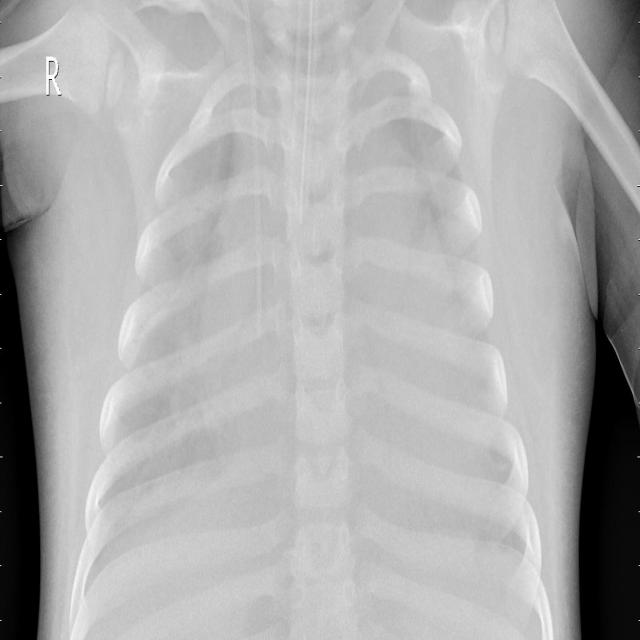high-pneumonia: (91, 104, 219, 531), (346, 76, 506, 415)
